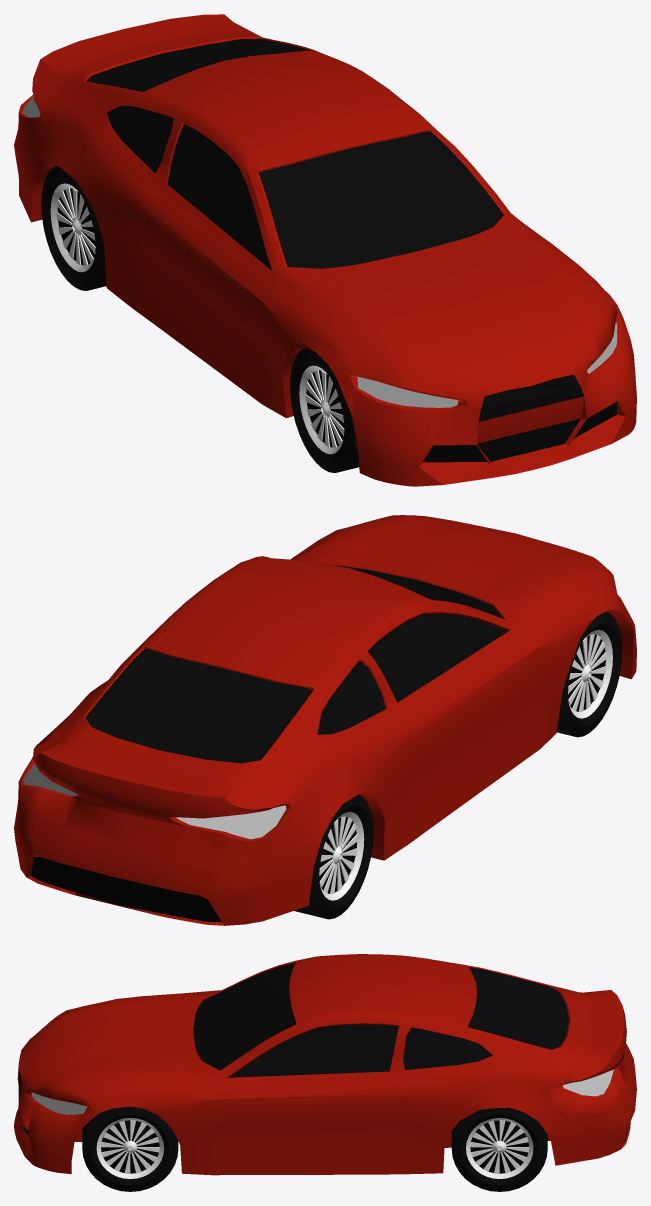
The model's file is car2.fbx.
3 views of the same model, one above another, from view 1: azimuth 30°, elevation 25°; view 2: azimuth 150°, elevation 25°; view 3: azimuth 270°, elevation 25° (orthographic). The views are drawn at different scales.
Visible parts, largest first — view 1: Cube, Cylinder.002, Cylinder.001; view 2: Cube, Cylinder.001, Cylinder.002; view 3: Cube, Cylinder.004, Cylinder.003.
Part boxes in pixels (x1,y1,x2,y2): Cube: (14,14,636,486); Cylinder.002: (290,348,359,472); Cylinder.001: (41,165,106,290); Cube: (14,515,636,925); Cylinder.001: (294,794,373,919); Cylinder.002: (557,611,622,737); Cube: (14,954,636,1175); Cylinder.004: (451,1107,547,1191); Cylinder.003: (82,1106,178,1191).
Bounding box in the file's own units: 387 × 288 × 985.
